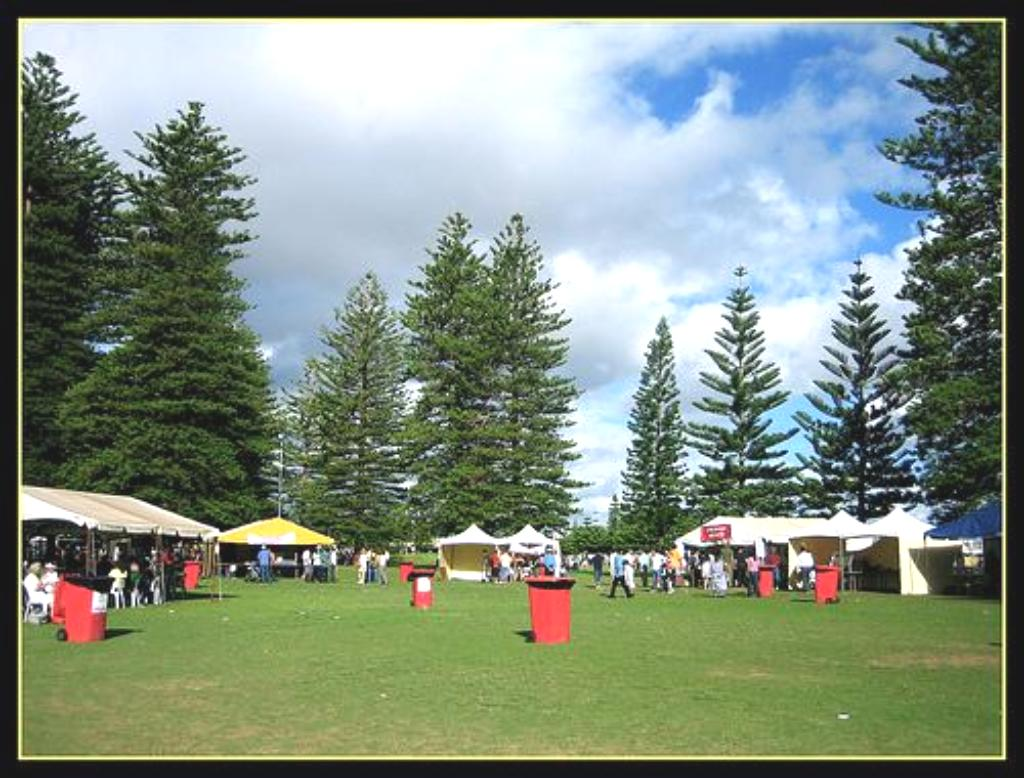dustbin: (57, 571, 113, 647), (525, 577, 578, 648), (411, 567, 437, 613)
